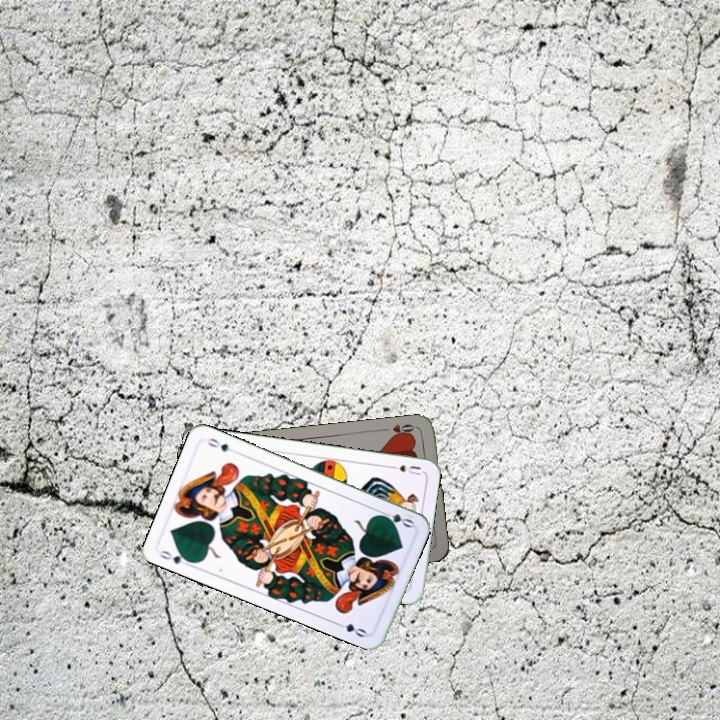GO: (156, 546, 196, 570), (375, 507, 416, 530)
HO: (379, 420, 420, 440)
SU: (384, 461, 423, 477)
